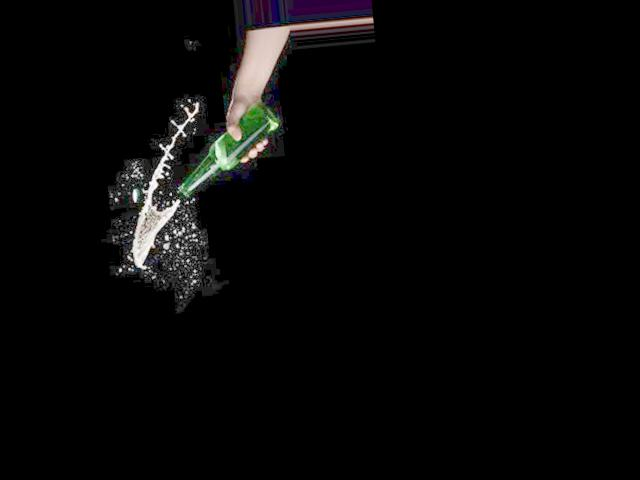beer: (172, 101, 286, 196)
